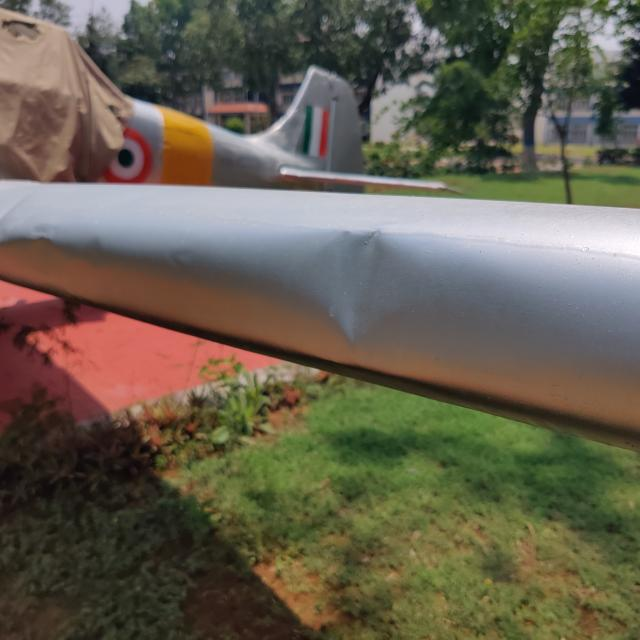dent: (299, 216, 420, 356)
